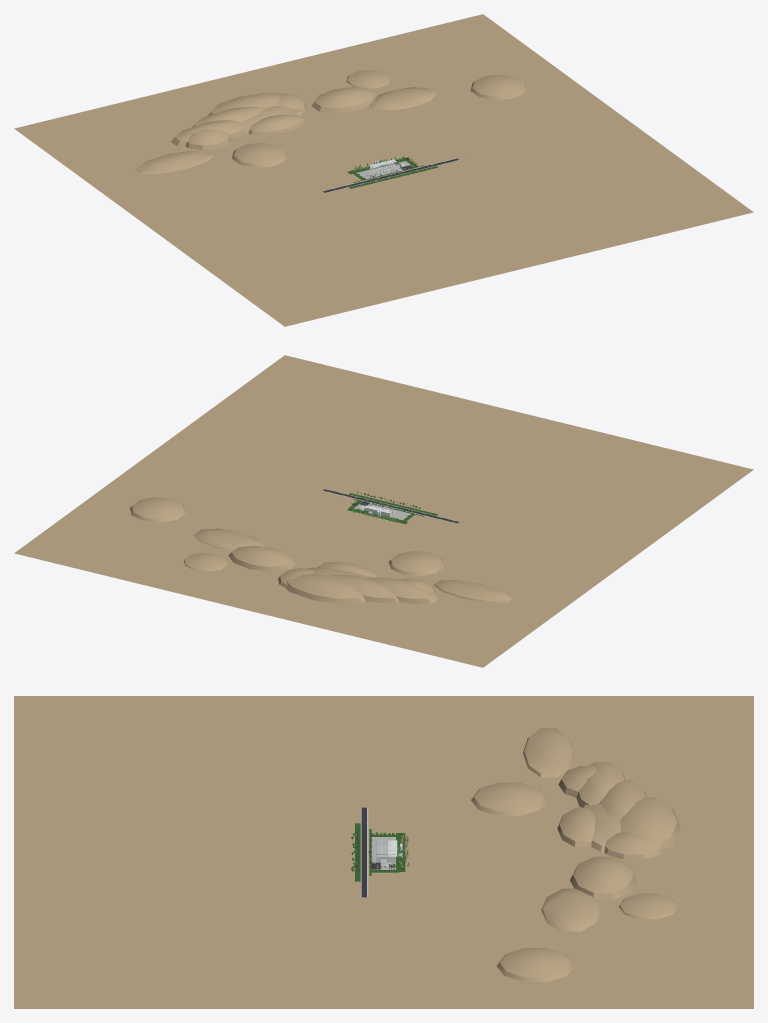
The model's file is hili_site.glb.
3 renders of one model, top to bottom at view 1: azimuth 30°, elevation 25°; view 2: azimuth 150°, elevation 25°; view 3: azimuth 270°, elevation 25°, orthographic. The views are drawn at different scales.
Visible parts, largest first — view 1: Desert, Dunes; view 2: Desert, Dunes, Lawns; view 3: Desert, Dunes, Road, Lawns.
Part boxes in pixels (x1,y1,x2,y2): Desert: [14, 14, 753, 326]; Dunes: [135, 70, 526, 173]; Desert: [14, 355, 753, 667]; Dunes: [130, 497, 511, 604]; Lawns: [347, 493, 438, 524]; Desert: [14, 696, 753, 1008]; Dunes: [471, 728, 680, 981]; Road: [360, 807, 380, 897]; Lawns: [355, 823, 405, 881].
Bounding box in the file's own units: 1600 × 79.93 × 1600.
33 materials, 1 textured.
